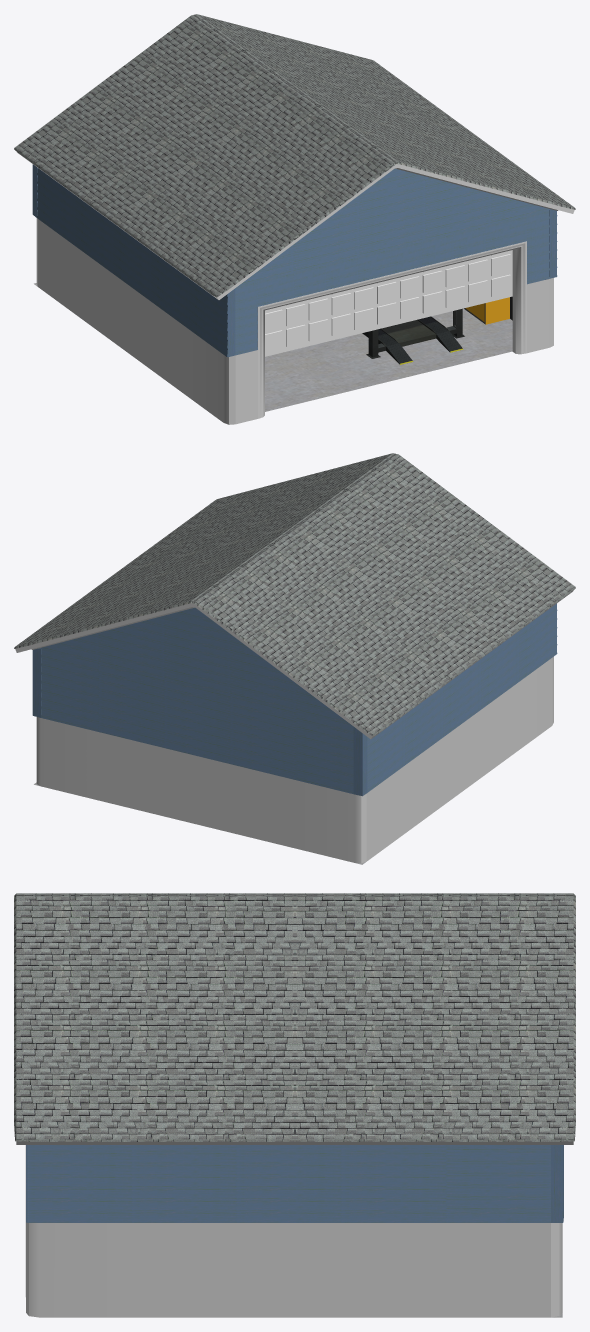
The model's file is garage f.fbx.
3 views of the same model, one above another, from view 1: azimuth 30°, elevation 25°; view 2: azimuth 150°, elevation 25°; view 3: azimuth 270°, elevation 25° (orthographic). The views are drawn at different scales.
Parts seen in each view (by area): view 1: EngineLift_RollingToolbox_T_1, pCube109, Car_Lift_Lift_T_0; view 2: EngineLift_RollingToolbox_T_1; view 3: EngineLift_RollingToolbox_T_1.
Part boxes in pixels (box(x1,y1,x2,y2)): EngineLift_RollingToolbox_T_1: box(14, 14, 575, 424); pCube109: box(265, 250, 512, 356); Car_Lift_Lift_T_0: box(362, 308, 464, 364); EngineLift_RollingToolbox_T_1: box(14, 453, 575, 864); EngineLift_RollingToolbox_T_1: box(14, 893, 575, 1317).
Bounding box in the file's own units: 109560 × 65627 × 107290.
13 materials, 12 textured.
